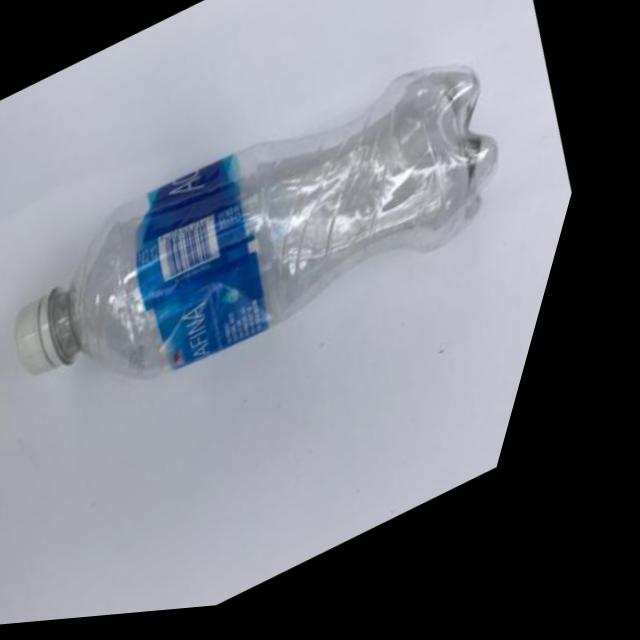plastic: (0, 0, 640, 562)
